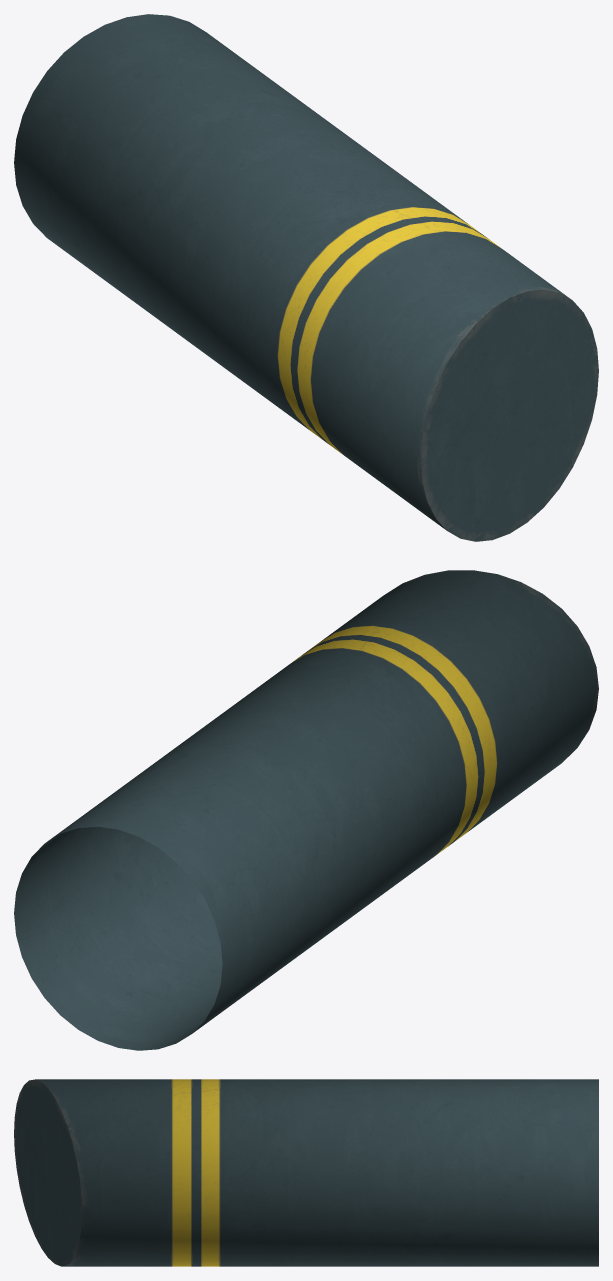
The model's file is Bollard.glb.
3 renders of one model, top to bottom at view 1: azimuth 30°, elevation 25°; view 2: azimuth 150°, elevation 25°; view 3: azimuth 270°, elevation 25°, orthographic. The views are drawn at different scales.
Parts seen in each view (by area): view 1: Bollard; view 2: Bollard; view 3: Bollard.
Boxes of the visible parts, <box> form: Bollard: <box>14,14,598,541</box>; Bollard: <box>14,570,598,1050</box>; Bollard: <box>14,1079,598,1266</box>.
Bounding box in the file's own units: 0.2032 × 0.2032 × 0.635.
Materials: 1 (1 with a texture image).
